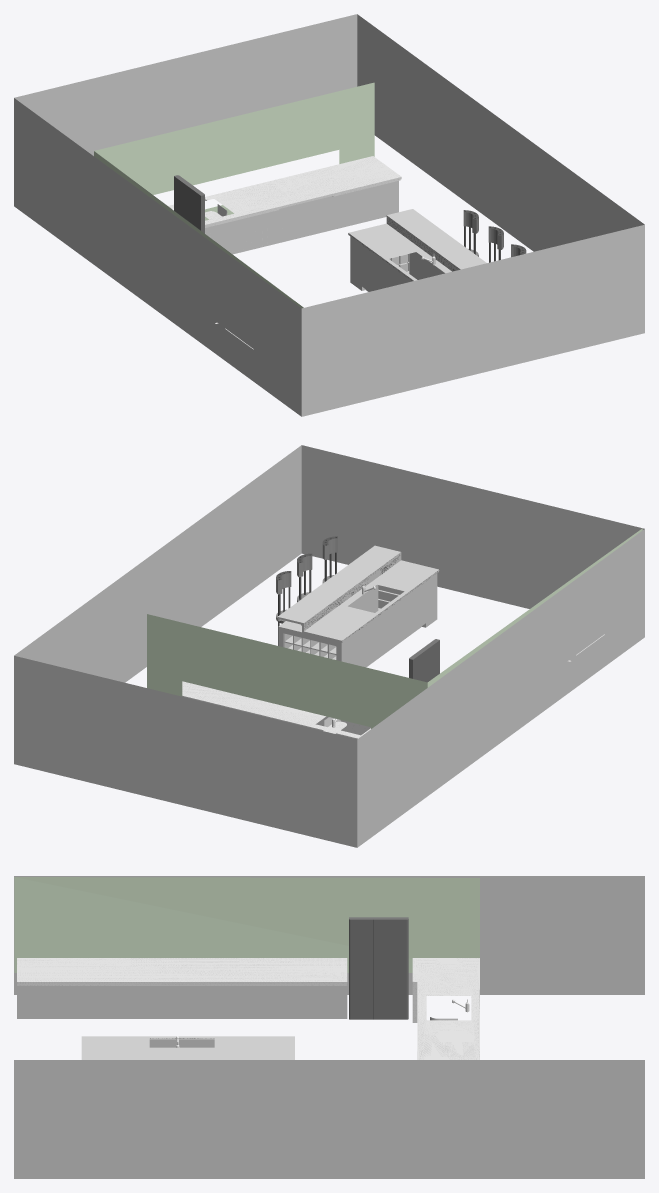
File: monash_kitchen.dae
The picture shows the model from 3 angles, top to bottom: view 1: azimuth 30°, elevation 25°; view 2: azimuth 150°, elevation 25°; view 3: azimuth 270°, elevation 25°; orthographic projection. The views are drawn at different scales.
Parts seen in each view (by area): view 1: Cube, instance_0.003, instance_0.002, instance_0.023, instance_0.157, instance_0.155, instance_0.058, instance_0.182; view 2: Cube, instance_0.003, instance_0.157, instance_0.155, instance_0.023, instance_0.058, instance_0.182, instance_0.002; view 3: Cube, instance_0.003, instance_0.026, instance_0.024, instance_0.058, instance_0.023, instance_0.157, instance_0.155.
Part boxes in pixels (x1,y1,x2,y2): Cube: [14, 14, 644, 416]; instance_0.003: [94, 82, 374, 308]; instance_0.002: [205, 181, 398, 254]; instance_0.023: [168, 156, 401, 227]; instance_0.157: [348, 209, 486, 280]; instance_0.155: [350, 236, 411, 291]; instance_0.058: [174, 175, 204, 233]; instance_0.182: [386, 215, 460, 271]; Cube: [14, 445, 644, 847]; instance_0.003: [147, 528, 642, 728]; instance_0.157: [277, 545, 438, 642]; instance_0.155: [278, 573, 437, 667]; instance_0.023: [182, 681, 370, 738]; instance_0.058: [409, 639, 439, 682]; instance_0.182: [304, 552, 401, 630]; instance_0.002: [182, 696, 370, 739]; Cube: [14, 876, 644, 1178]; instance_0.003: [14, 877, 479, 972]; instance_0.026: [17, 986, 347, 1018]; instance_0.024: [17, 958, 347, 985]; instance_0.058: [349, 917, 408, 1019]; instance_0.023: [412, 958, 479, 1059]; instance_0.157: [81, 1036, 294, 1059]; instance_0.155: [149, 1039, 214, 1047].
Bounding box in the file's own units: 6.74 × 9.61 × 2.14.
